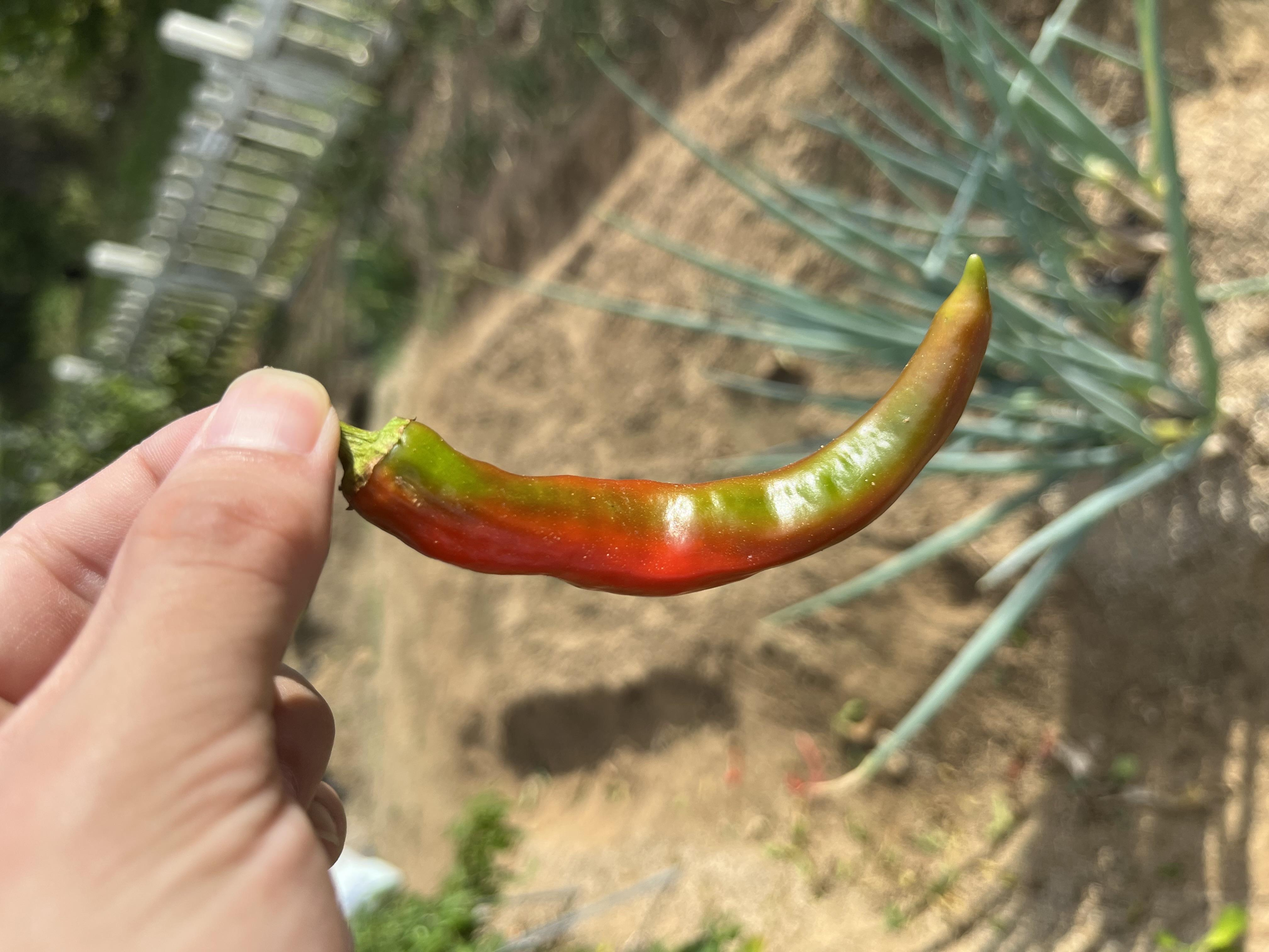Buah Cabai Sehat: (445, 225, 986, 763)
